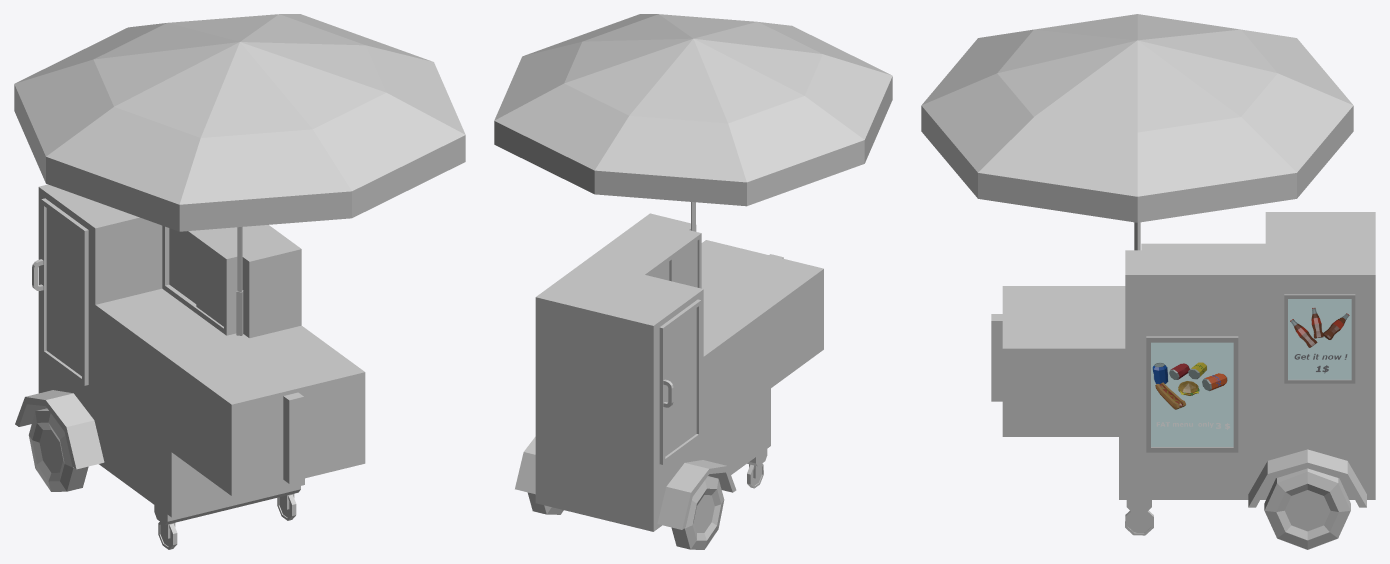
Rendered from StreetSellerStand.fbx.
3 renders of one model, left to right at view 1: azimuth 30°, elevation 25°; view 2: azimuth 150°, elevation 25°; view 3: azimuth 270°, elevation 25°, orthographic. The views are drawn at different scales.
Visible parts, largest first — view 1: Food_seller_car; view 2: Food_seller_car; view 3: Food_seller_car.
Boxes of the visible parts, left/top/right/bottom form: Food_seller_car: left=14, top=14, right=465, bottom=549; Food_seller_car: left=494, top=14, right=892, bottom=549; Food_seller_car: left=921, top=14, right=1375, bottom=549.
Bounding box in the file's own units: 240 × 290 × 253.
2 materials, 1 textured.
